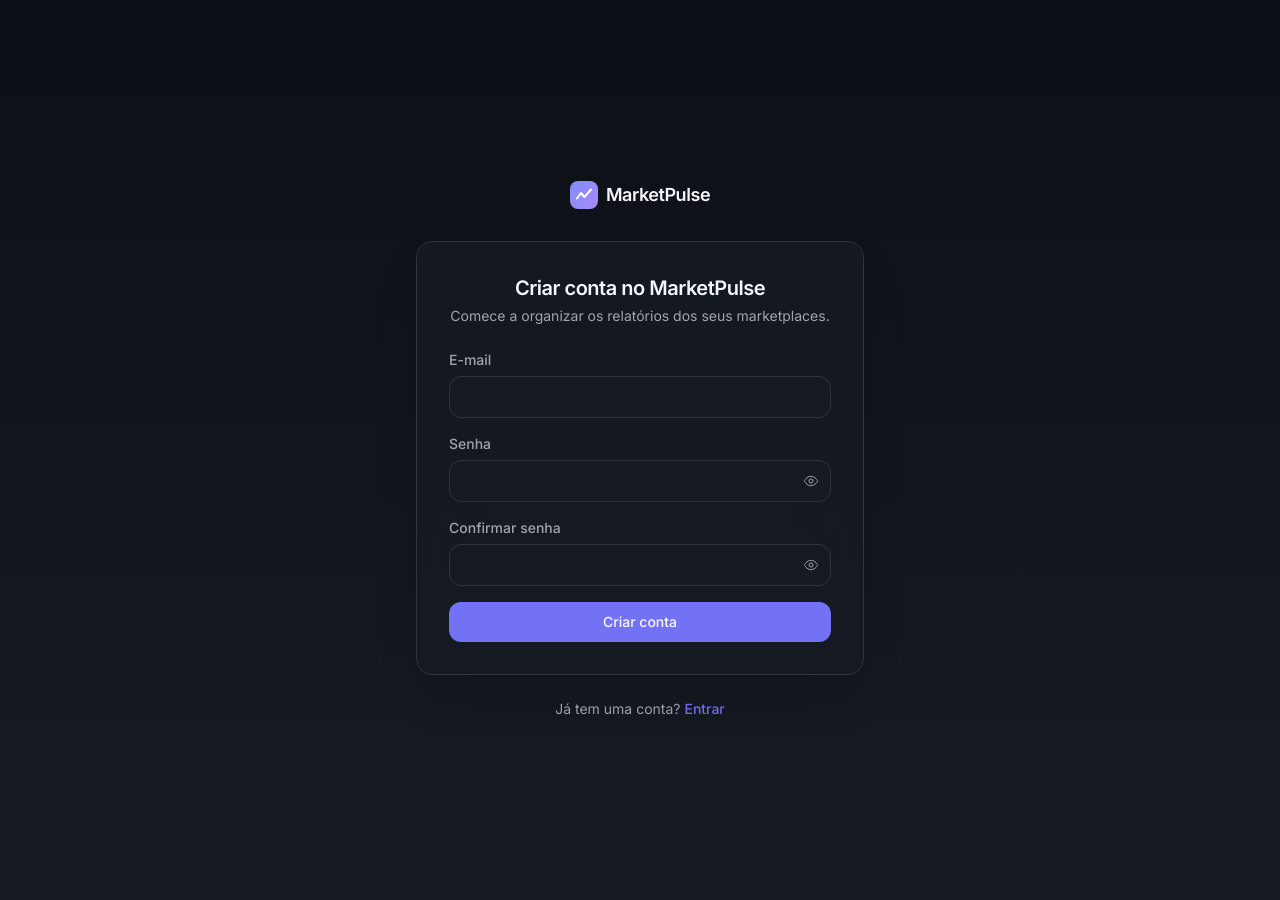
it: RegisterPage › blocks submission when passwords do not match
Type "user@example.com" into the field labelled "E-mail" at (640, 397), box [449,376,831,418]
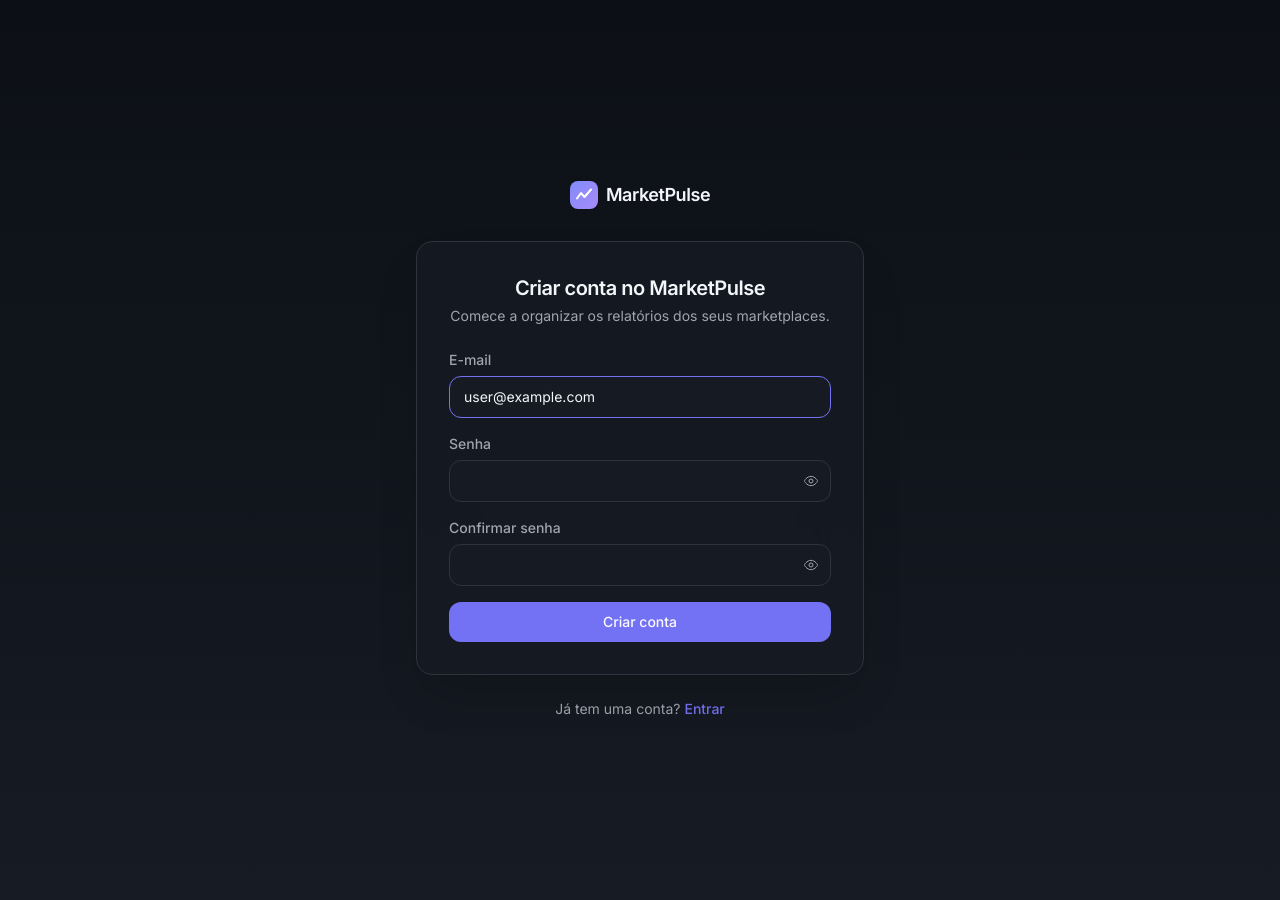
Type "Sup3rSecret!" into the password field labelled "Senha" at (640, 481), box [449,460,831,502]
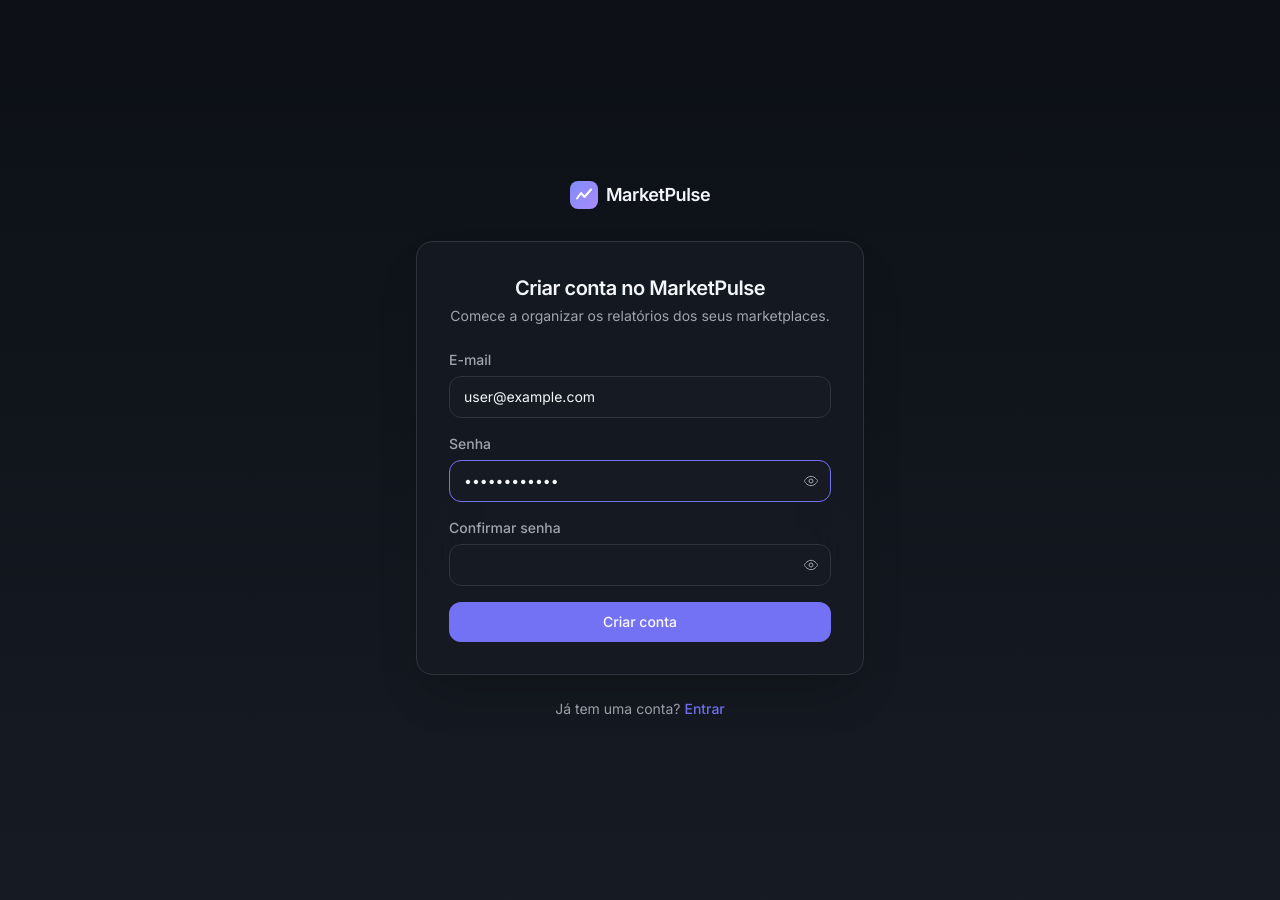
Type "DifferentPass1" into the password field labelled "Confirmar senha" at (640, 565), box [449,544,831,586]
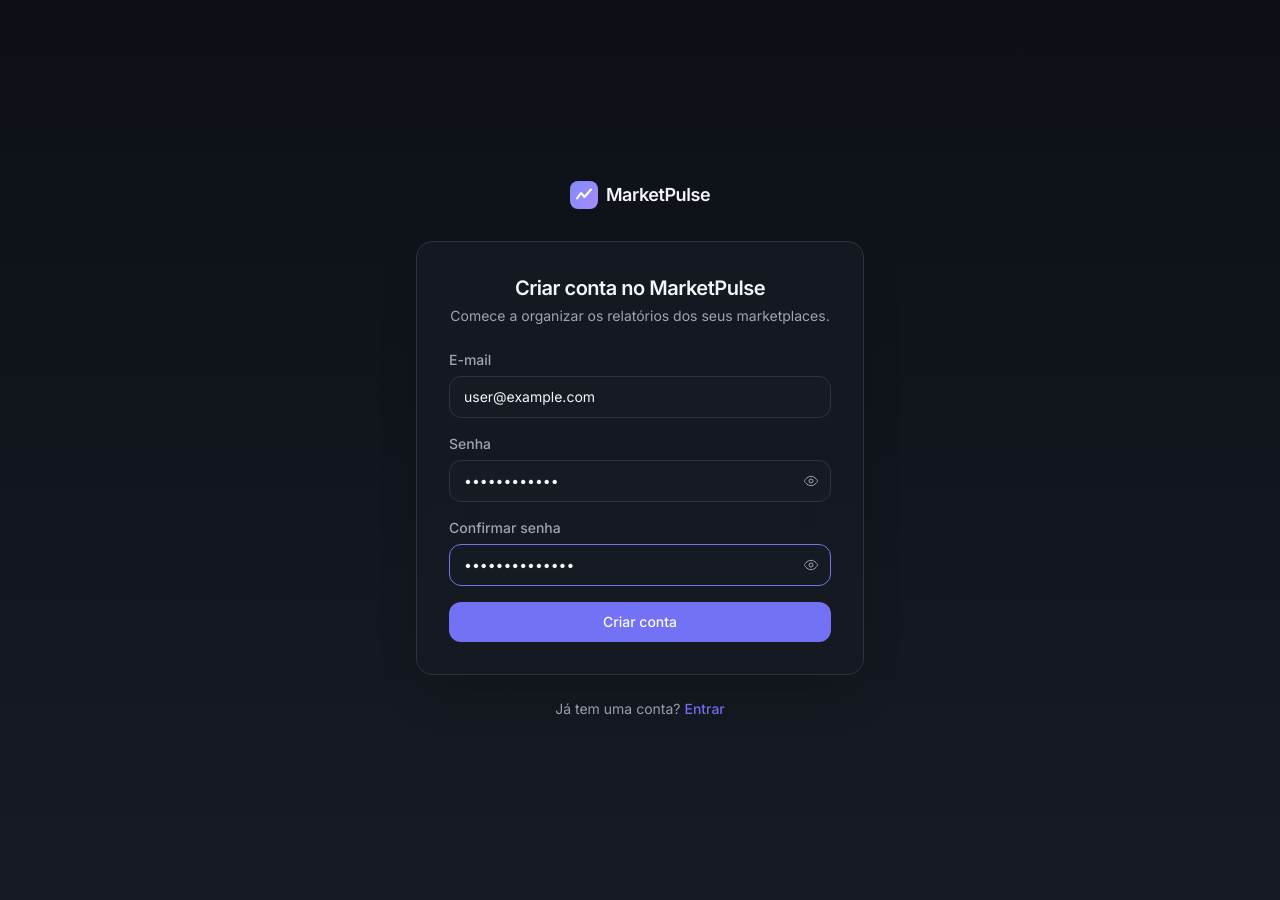
Click the button "Criar conta" at (640, 622), box [449,602,831,642]
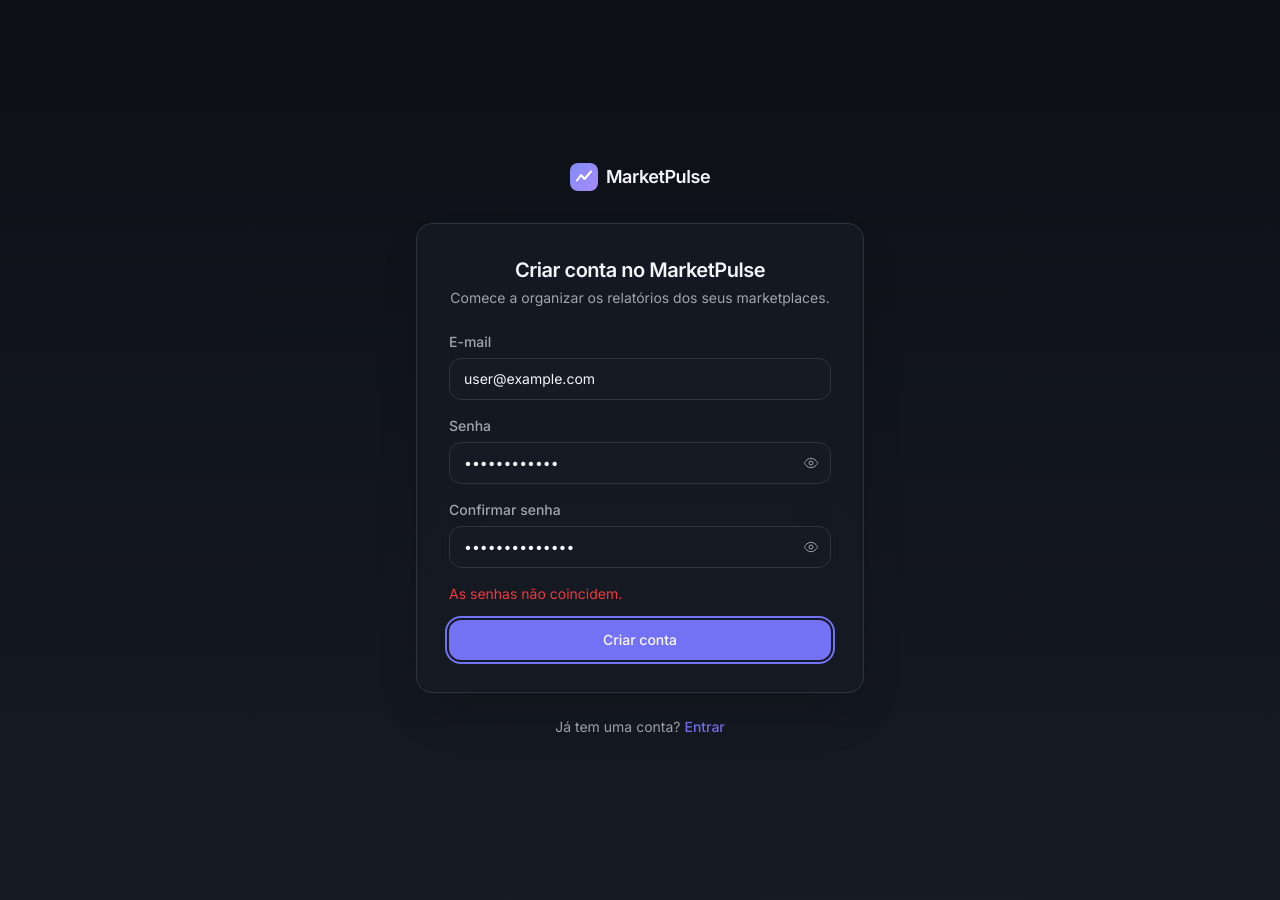
Result: the message reads "As senhas não coincidem." at [449,585,622,602]
